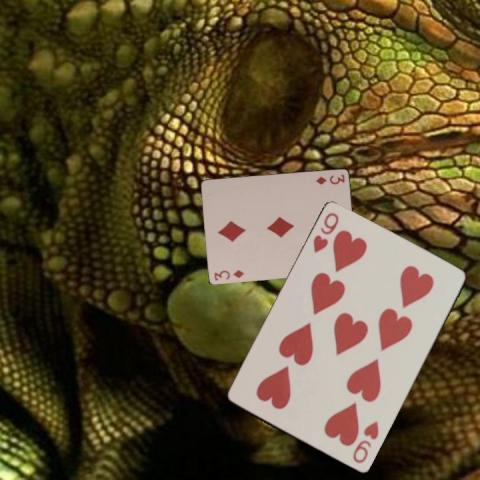3d: (212, 267, 246, 282), (313, 172, 346, 186)
9h: (349, 419, 381, 465), (310, 210, 341, 256)
